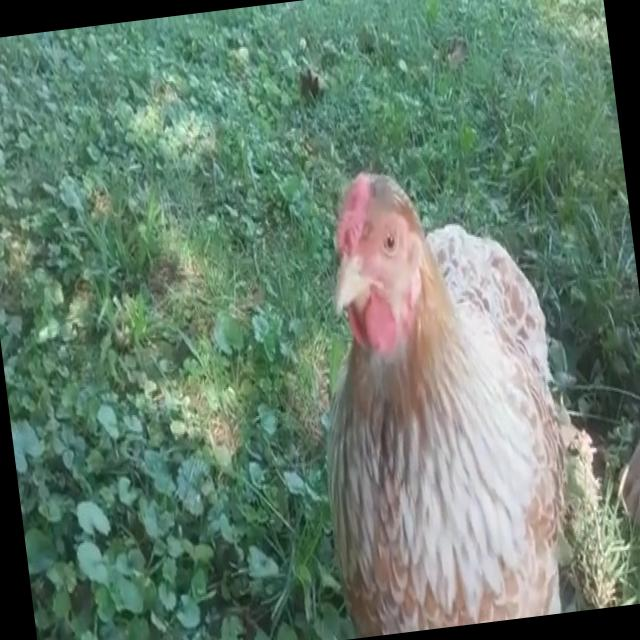Breathing: (286, 148, 585, 638)
